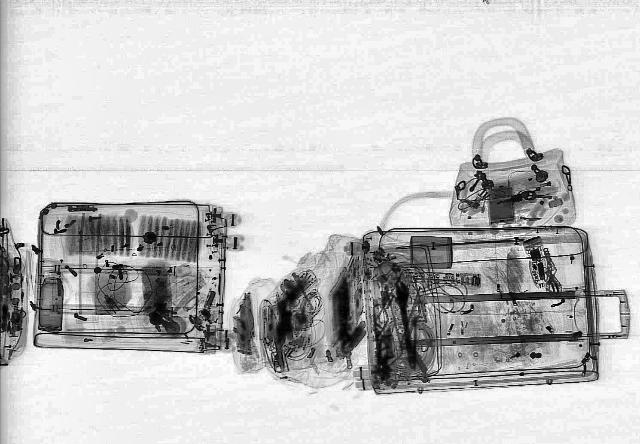Wrench: (390, 282, 424, 371)
